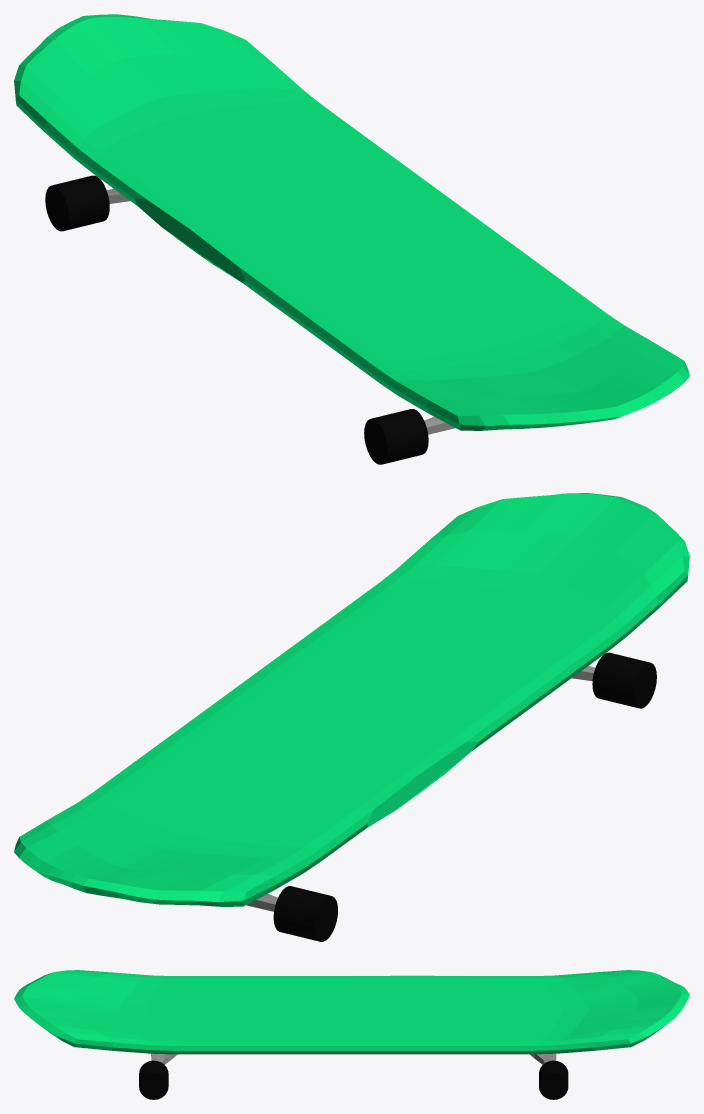
The model's file is Skateboard.fbx.
The picture shows the model from 3 angles, top to bottom: view 1: azimuth 30°, elevation 25°; view 2: azimuth 150°, elevation 25°; view 3: azimuth 270°, elevation 25°; orthographic projection. The views are drawn at different scales.
Visible parts, largest first — view 1: Skateboard, wheel2, wheel4; view 2: Skateboard, wheel4, wheel2; view 3: Skateboard, wheel3, wheel1.
Boxes of the visible parts, box(x1,y1,x2,y2) form: Skateboard: box(14, 14, 689, 430); wheel2: box(45, 175, 109, 231); wheel4: box(364, 409, 428, 464); Skateboard: box(14, 493, 689, 906); wheel4: box(592, 652, 656, 708); wheel2: box(273, 886, 337, 941); Skateboard: box(14, 970, 689, 1054); wheel3: box(139, 1060, 168, 1099); wheel1: box(539, 1060, 568, 1099).
Bounding box in the file's own units: 231 × 84.91 × 800.
